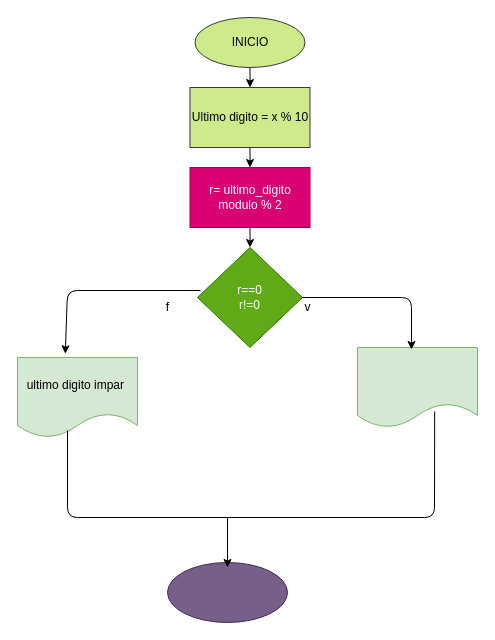
Image size: 495x640. Some labels were removed from this diagram. The shapes that lost their labels are listed below. From the top down, each one's centre as x and y in pixels, then its label:
pixel 417 387: Ultimo digito par
pixel 227 592: fin
